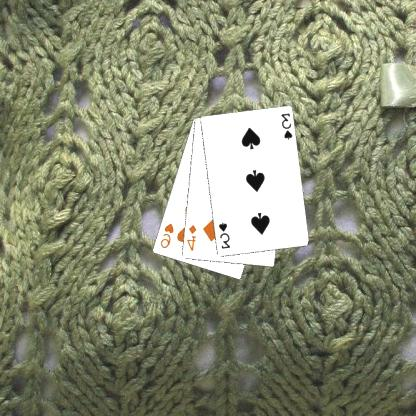3S: (217, 220, 233, 250), (280, 111, 295, 141)
4D: (186, 223, 199, 252)
9H: (158, 220, 176, 250)
